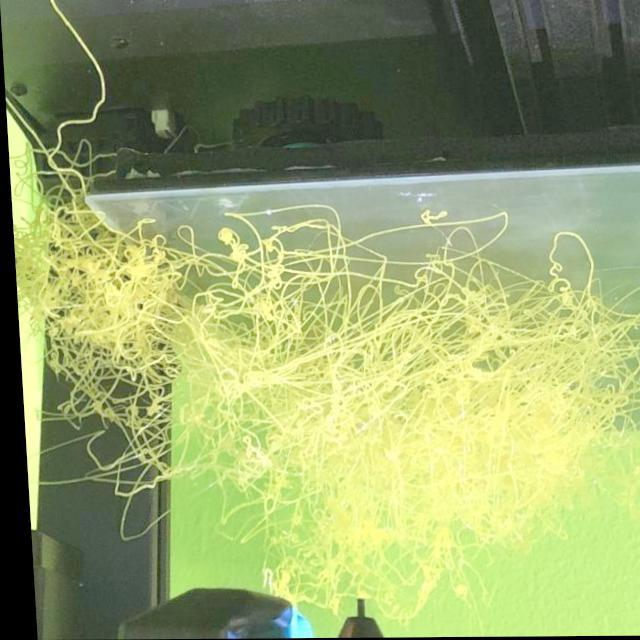spaghetti: (279, 392, 510, 597), (351, 266, 543, 403), (198, 236, 376, 370), (493, 351, 610, 522), (48, 235, 182, 366), (75, 346, 171, 475), (14, 155, 104, 292), (188, 398, 276, 494), (580, 343, 640, 453), (539, 261, 602, 353)
